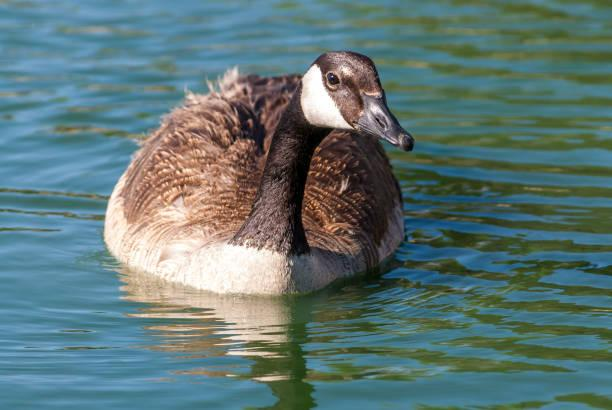Canadian-Goose: (103, 50, 417, 295)
